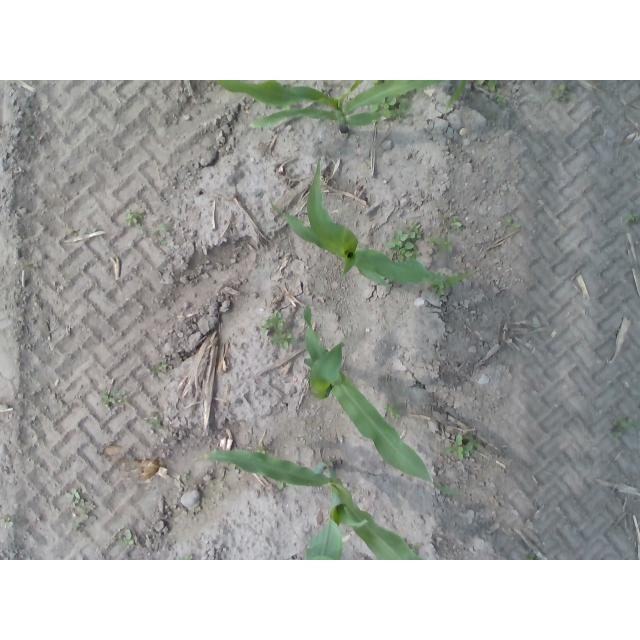Maize: (304, 304, 457, 497), (268, 154, 477, 290), (208, 449, 425, 560), (219, 81, 466, 136)
Weeds: (390, 231, 415, 257), (446, 434, 464, 460), (264, 311, 285, 332), (270, 330, 290, 349), (555, 82, 572, 101), (433, 235, 452, 250), (383, 99, 398, 117), (122, 529, 135, 548), (464, 437, 476, 457), (155, 224, 174, 236), (386, 405, 401, 420), (396, 102, 409, 118), (64, 490, 81, 502), (478, 80, 498, 89), (126, 211, 138, 225), (148, 420, 162, 431), (506, 216, 518, 228), (620, 419, 634, 429), (103, 395, 114, 406), (497, 94, 509, 103), (413, 228, 423, 238), (627, 214, 638, 223), (452, 221, 462, 228), (160, 364, 169, 371)
